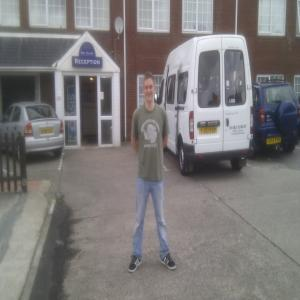Vehicle-registration-plate: (200, 128, 218, 135), (268, 137, 282, 145), (41, 129, 54, 136)
